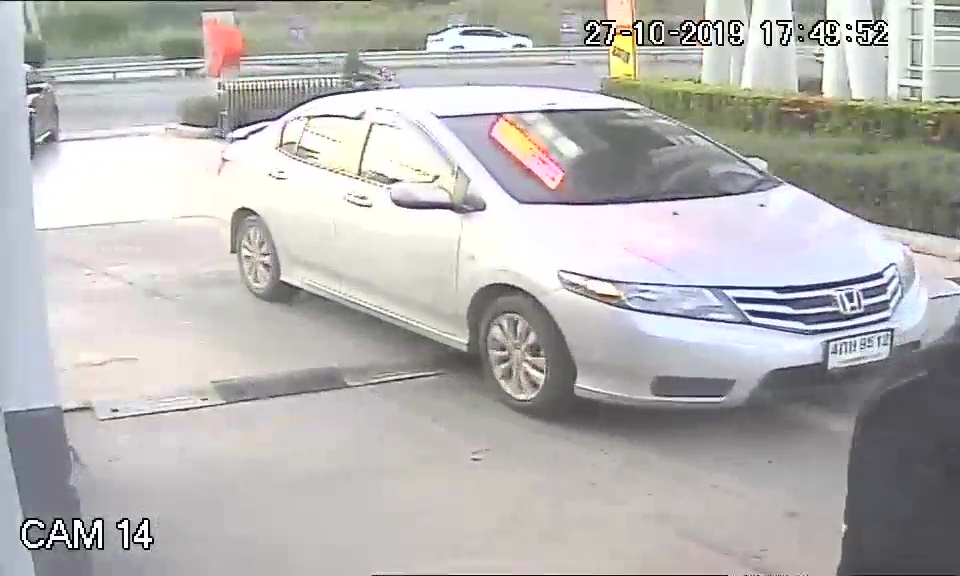sedan: (210, 87, 925, 413)
